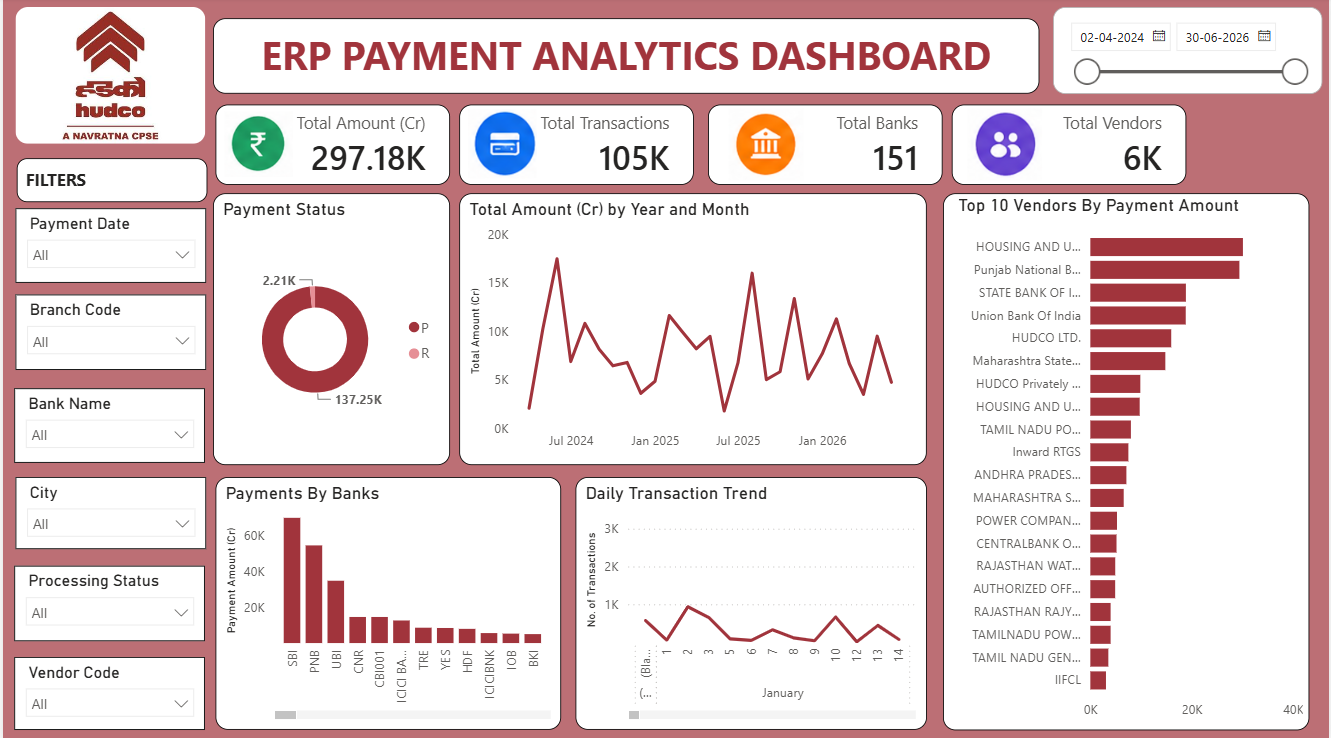

The page's visual inventory and layout, read from the dashboard file:
{"tool":"powerbi","page":{"name":"Page 1","canvas":[1280,720],"ordinal":0},"visuals":[{"type":"textbox","box":[202.9,21,797.8,73],"z":0},{"type":"cardVisual","fields":{"Data":["PAYMENT_DATA(Export Worksheet).Total Transactions"]},"box":[440,103.4,226.2,77.5],"z":1000},{"type":"cardVisual","fields":{"Data":["PAYMENT_DATA(Export Worksheet).Total Banks"]},"box":[680,103.4,226.2,77.5],"z":2000},{"type":"cardVisual","fields":{"Data":["PAYMENT_DATA(Export Worksheet).Total Vendors"]},"box":[916.2,103.4,226.2,77.5],"z":3000},{"type":"cardVisual","fields":{"Data":["PAYMENT_DATA(Export Worksheet).Total Sanction (Cr)"]},"box":[205,103.4,226.2,77.5],"z":4000},{"type":"donutChart","title":"Payment Status","fields":{"Category":["PAYMENT_DATA(Export Worksheet).ERPCMS_PROC_STATUS"],"Y":["CountNonNull(PAYMENT_DATA(Export Worksheet).ERPCMS_PYMNT_REF_NUM)"]},"box":[202.9,189.3,228.8,262.2],"z":5000},{"type":"lineChart","fields":{"Y":["PAYMENT_DATA(Export Worksheet).Total Amount (Cr)"],"Category":["PAYMENT_DATA(Export Worksheet).ERPCMS_PYMT_DATE.Variation.Date Hierarchy.Year","PAYMENT_DATA(Export Worksheet).ERPCMS_PYMT_DATE.Variation.Date Hierarchy.Month"]},"box":[440.4,189.3,451.5,262.2],"z":6000},{"type":"clusteredBarChart","title":"Top 20 Vendors By Payment Amount","fields":{"Category":["PAYMENT_DATA(Export Worksheet).ERPCMS_BENE_NAME","PAYMENT_DATA(Export Worksheet).ERPCMS_BANK_NAME"],"Y":["PAYMENT_DATA(Export Worksheet).Total Amount (Cr)"]},"box":[906.7,189.3,353.8,518.3],"z":7000},{"type":"clusteredColumnChart","title":"Payments By Banks","fields":{"Category":["PAYMENT_DATA(Export Worksheet).ERPCMS_BANK_NAME"],"Y":["PAYMENT_DATA(Export Worksheet).Total Amount (Cr)"]},"box":[205.3,463.9,334,243.7],"z":8000},{"type":"lineChart","title":"Daily Transaction Trend","fields":{"Y":["CountNonNull(PAYMENT_DATA(Export Worksheet).ERPCMS_AMOUNT)"],"Category":["PAYMENT_DATA(Export Worksheet).ERPCMS_PYMT_DATE.Variation.Date Hierarchy.Month","PAYMENT_DATA(Export Worksheet).ERPCMS_PYMT_DATE.Variation.Date Hierarchy.Day"]},"box":[552.9,463.9,338.9,243.7],"z":9000},{"type":"slicer","fields":{"Values":["PAYMENT_DATA(Export Worksheet).ERPCMS_PYMT_DATE"]},"box":[1013.1,9.9,259.8,84.1],"z":10000},{"type":"slicer","fields":{"Values":["PAYMENT_DATA(Export Worksheet).ERPCMS_PYMT_DATE"]},"box":[12.4,204.1,184.3,71.7],"z":11000},{"type":"slicer","fields":{"Values":["PAYMENT_DATA(Export Worksheet).ERPCMS_BRANCH_CODE"]},"box":[12.4,287,184.3,73],"z":12000},{"type":"slicer","fields":{"Values":["PAYMENT_DATA(Export Worksheet).ERPCMS_BANK_NAME"]},"box":[11.1,377.3,184.3,71.7],"z":13000},{"type":"slicer","fields":{"Values":["PAYMENT_DATA(Export Worksheet).ERPCMS_CITY"]},"box":[12.4,463.9,184.3,69.3],"z":14000},{"type":"slicer","fields":{"Values":["PAYMENT_DATA(Export Worksheet).ERPCMS_PROC_STATUS"]},"box":[11.1,549.2,184.3,73],"z":15000},{"type":"slicer","fields":{"Values":["PAYMENT_DATA(Export Worksheet).ERPCMS_VEND_CODE"]},"box":[11.1,637,184.3,70.5],"z":16000},{"type":"textbox","box":[13.6,155.9,184.3,42.1],"z":17000},{"type":"image","box":[214,107.6,66.8,69.3],"z":18000},{"type":"image","box":[449,107.6,66.8,69.3],"z":19000},{"type":"image","box":[690.2,107.6,92.8,69.3],"z":20000},{"type":"image","box":[920.3,107.6,92.8,69.3],"z":21000},{"type":"image","box":[12.4,9.9,183.1,132.4],"z":22000}]}

Visuals, with their boxes in screenshot pixels (x1, y1, x2, y2), scaled from the page's 1280x720 canvas onto the 1331x738 screenshot:
textbox: 211, 22, 1041, 96
cardVisual - PAYMENT_DATA(Export Worksheet).Total Transactions: 458, 106, 693, 185
cardVisual - PAYMENT_DATA(Export Worksheet).Total Banks: 707, 106, 942, 185
cardVisual - PAYMENT_DATA(Export Worksheet).Total Vendors: 953, 106, 1188, 185
cardVisual - PAYMENT_DATA(Export Worksheet).Total Sanction (Cr): 213, 106, 448, 185
"Payment Status" donutChart: 211, 194, 449, 463
lineChart - PAYMENT_DATA(Export Worksheet).Total Amount (Cr) x PAYMENT_DATA(Export Worksheet).ERPCMS_PYMT_DATE.Variation.Date Hierarchy.Year: 458, 194, 927, 463
"Top 20 Vendors By Payment Amount" clusteredBarChart: 943, 194, 1311, 725
"Payments By Banks" clusteredColumnChart: 213, 475, 561, 725
"Daily Transaction Trend" lineChart: 575, 475, 927, 725
slicer - PAYMENT_DATA(Export Worksheet).ERPCMS_PYMT_DATE: 1053, 10, 1324, 96
slicer - PAYMENT_DATA(Export Worksheet).ERPCMS_PYMT_DATE: 13, 209, 205, 283
slicer - PAYMENT_DATA(Export Worksheet).ERPCMS_BRANCH_CODE: 13, 294, 205, 369
slicer - PAYMENT_DATA(Export Worksheet).ERPCMS_BANK_NAME: 12, 387, 203, 460
slicer - PAYMENT_DATA(Export Worksheet).ERPCMS_CITY: 13, 475, 205, 547
slicer - PAYMENT_DATA(Export Worksheet).ERPCMS_PROC_STATUS: 12, 563, 203, 638
slicer - PAYMENT_DATA(Export Worksheet).ERPCMS_VEND_CODE: 12, 653, 203, 725
textbox: 14, 160, 206, 203
image: 223, 110, 292, 181
image: 467, 110, 536, 181
image: 718, 110, 814, 181
image: 957, 110, 1053, 181
image: 13, 10, 203, 146
